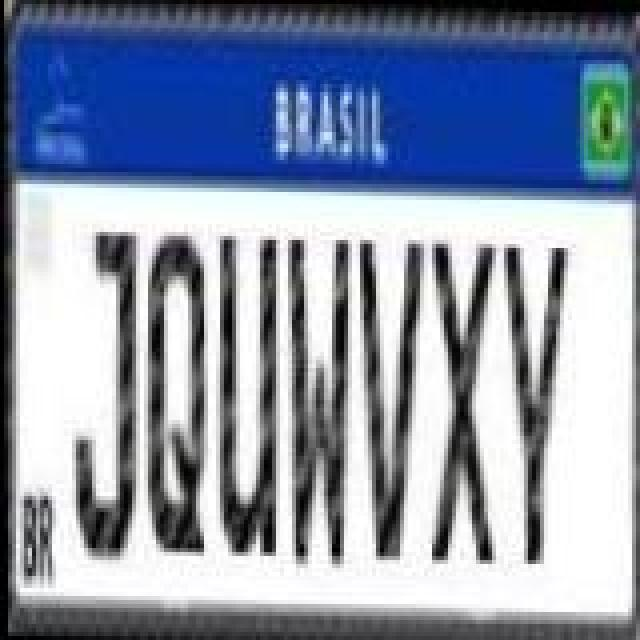J: (70, 230, 142, 566)
Q: (138, 224, 210, 560)
U: (210, 230, 282, 554)
V: (354, 236, 426, 560)
W: (278, 236, 350, 572)
X: (422, 238, 494, 562)
Y: (492, 240, 568, 564)
